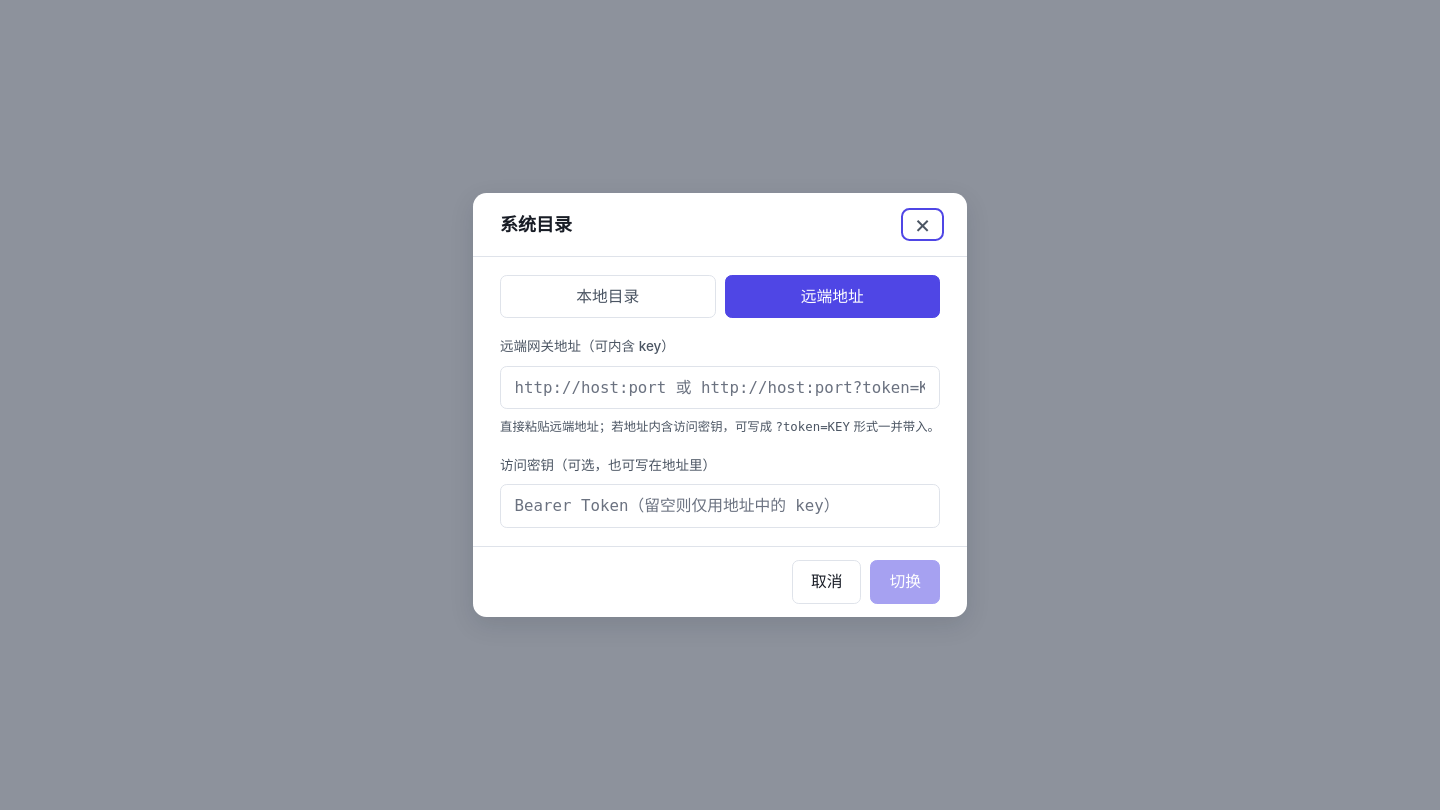
Test: HomedirSwitcher — 提交前校验 › 远端地址非法 → 禁用；合法 → 可提交（含内嵌 token 也算合法）
Type "not-a-url" into the field with id "sysdir-url" at (720, 387), box [500,366,940,409]
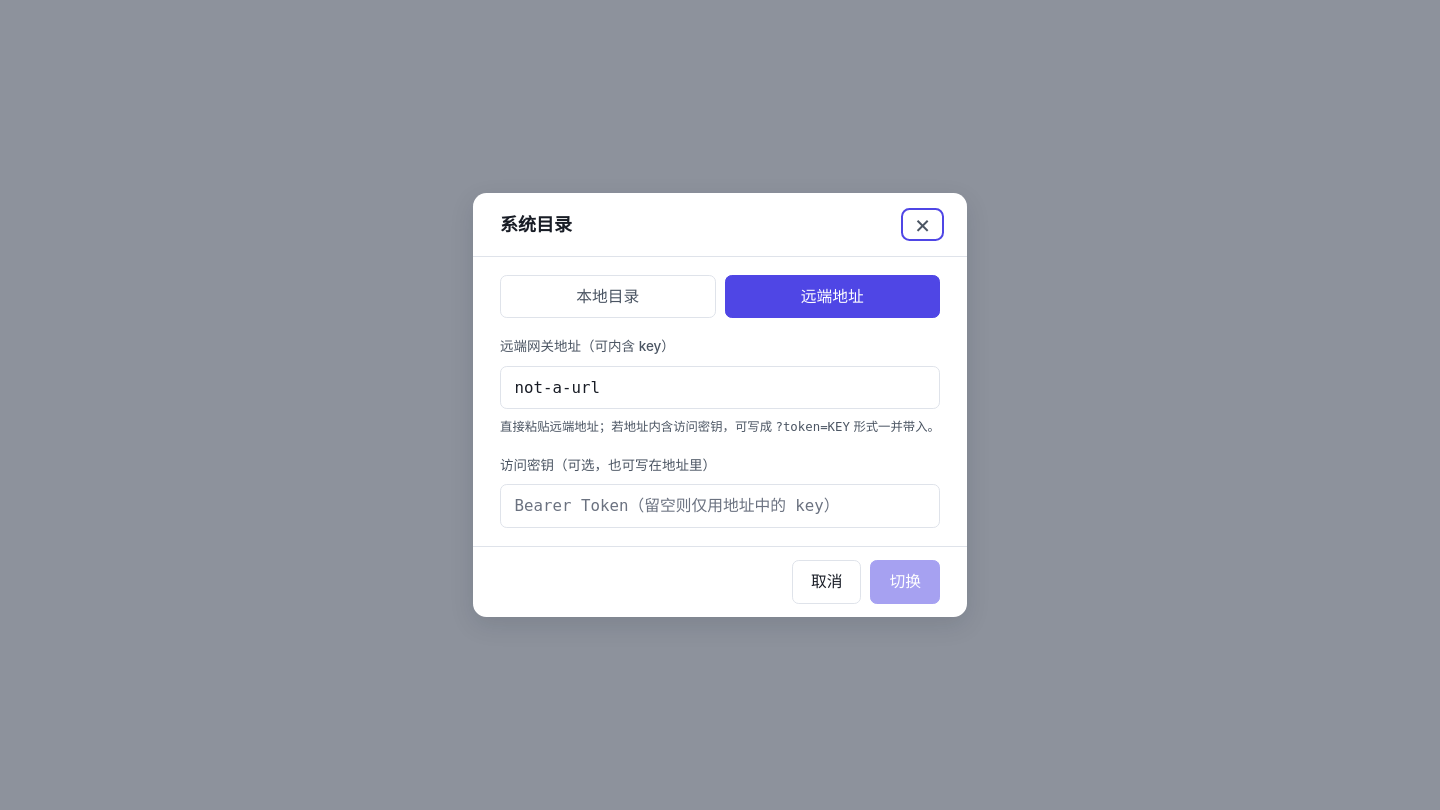
Expected: the button "切换" is disabled, [870,560,940,604]
Replace the text in the field with id "sysdir-url" with "http://127.0.0.1:8080?token=KEY" at (720, 387), box [500,366,940,409]
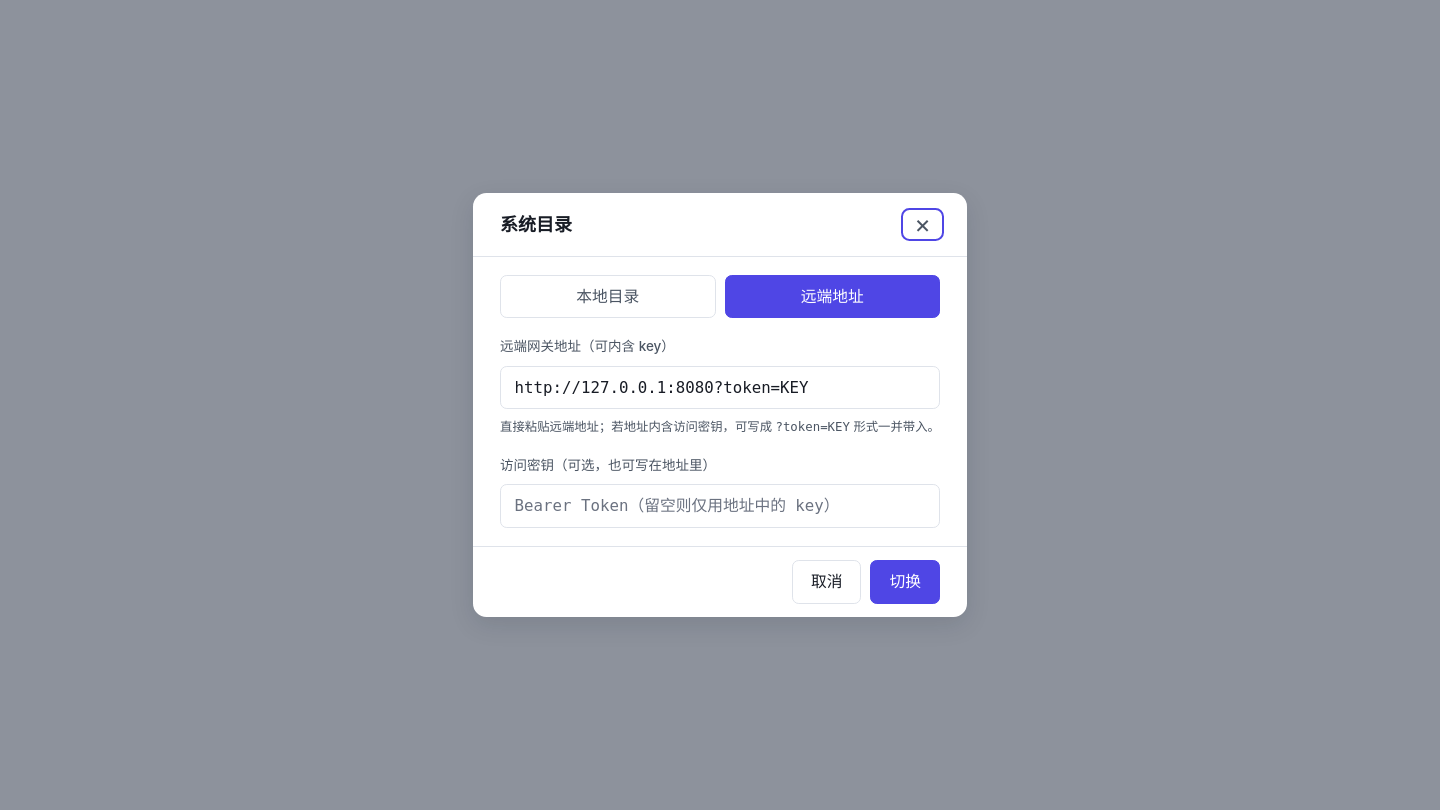
Now the button "切换" is enabled, box [870,560,940,604]
